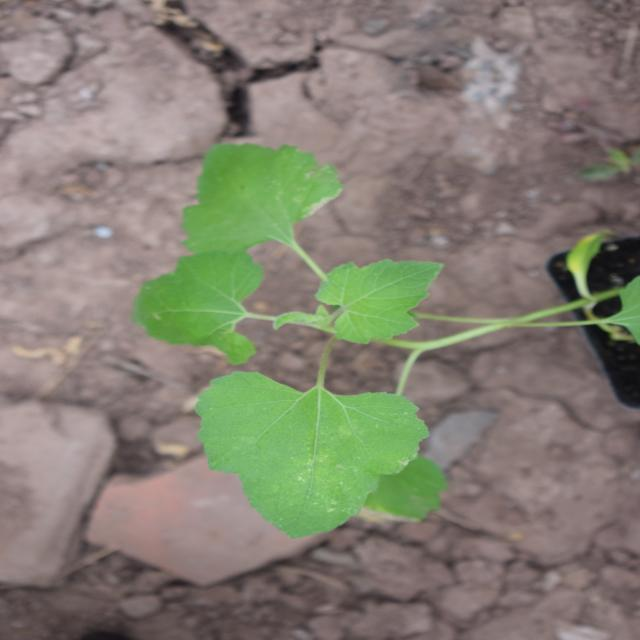cocklebur: (93, 128, 506, 444)
